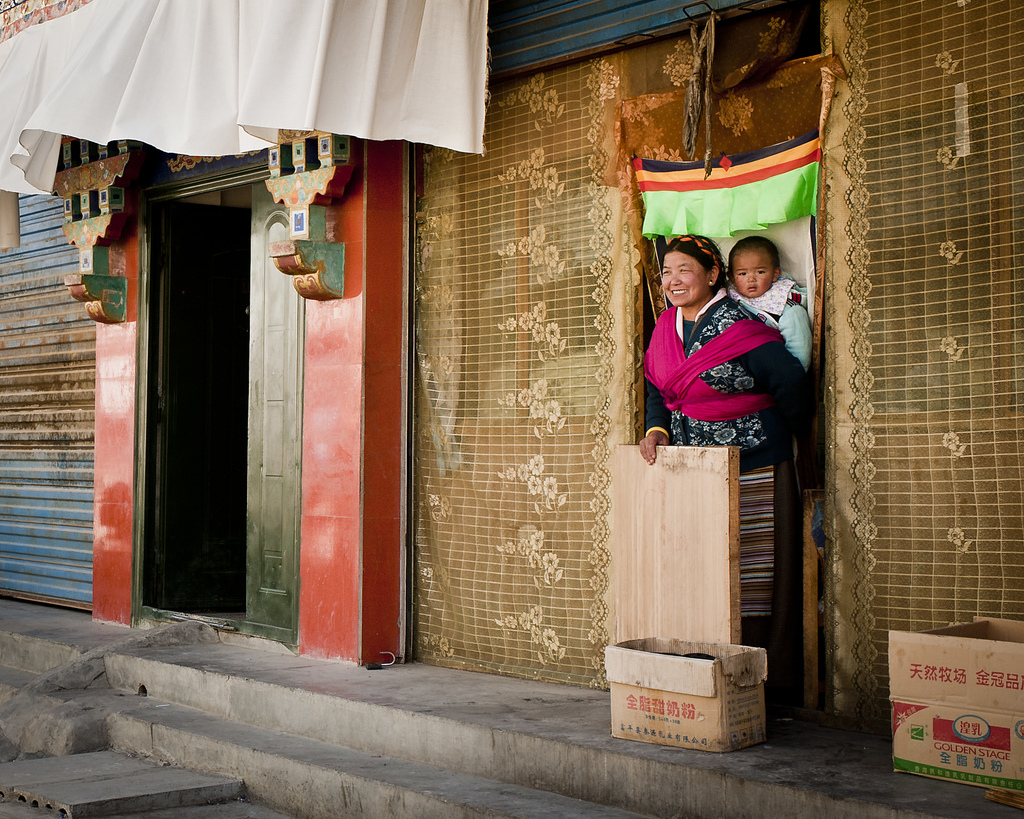Door: (120, 145, 271, 660), (249, 184, 294, 629)
